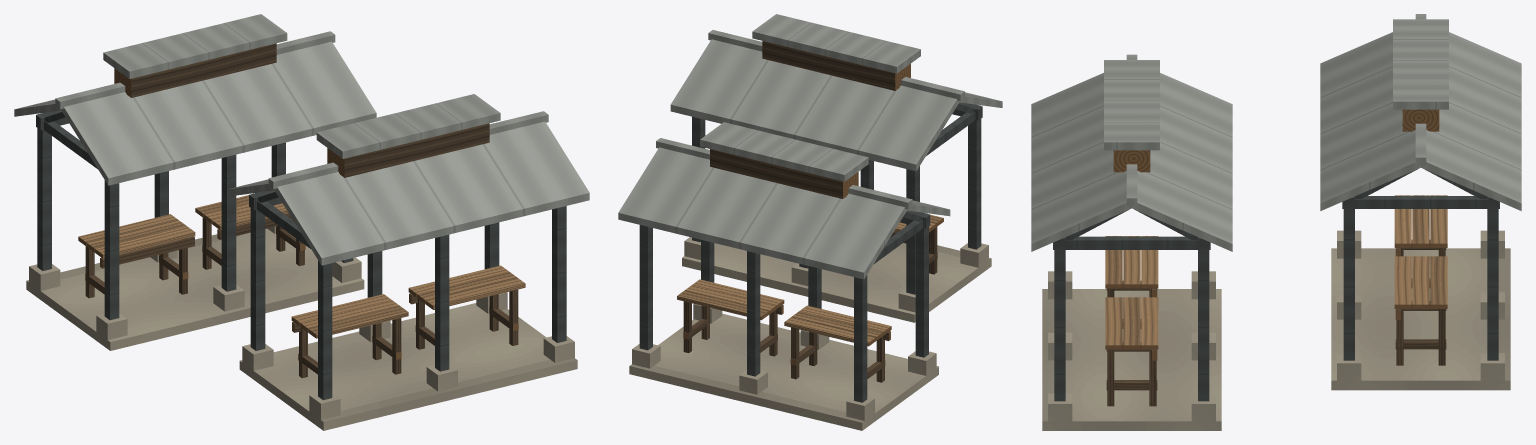
File: conakry.glb
3 renders of one model, left to right at view 1: azimuth 30°, elevation 25°; view 2: azimuth 150°, elevation 25°; view 3: azimuth 270°, elevation 25°, orthographic. The views are drawn at different scales.
Visible parts, largest first — view 1: conakry; view 2: conakry; view 3: conakry.
Boxes of the visible parts, x1=… form: conakry: x1=14, y1=14, x2=589, y2=430; conakry: x1=618, y1=14, x2=1002, y2=430; conakry: x1=1031, y1=14, x2=1521, y2=430.
Bounding box in the file's own units: 3.75 × 2.5 × 4.22.
Materials: 1 (1 with a texture image).
